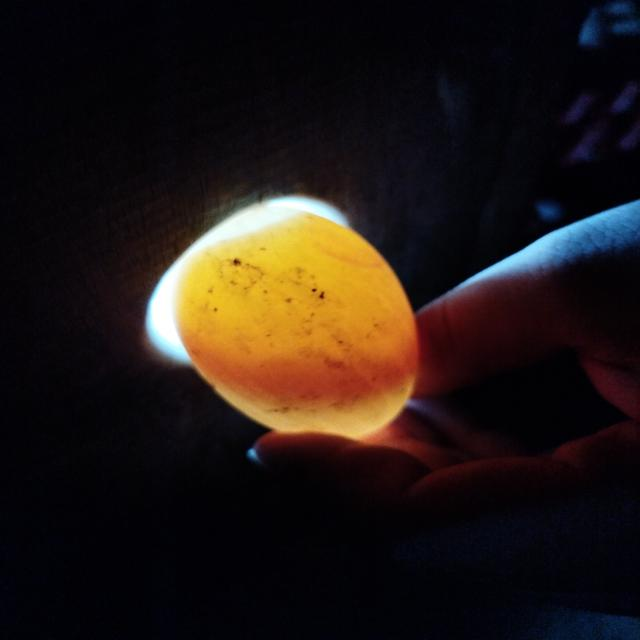Gema Quebrada: (185, 346, 418, 407)
